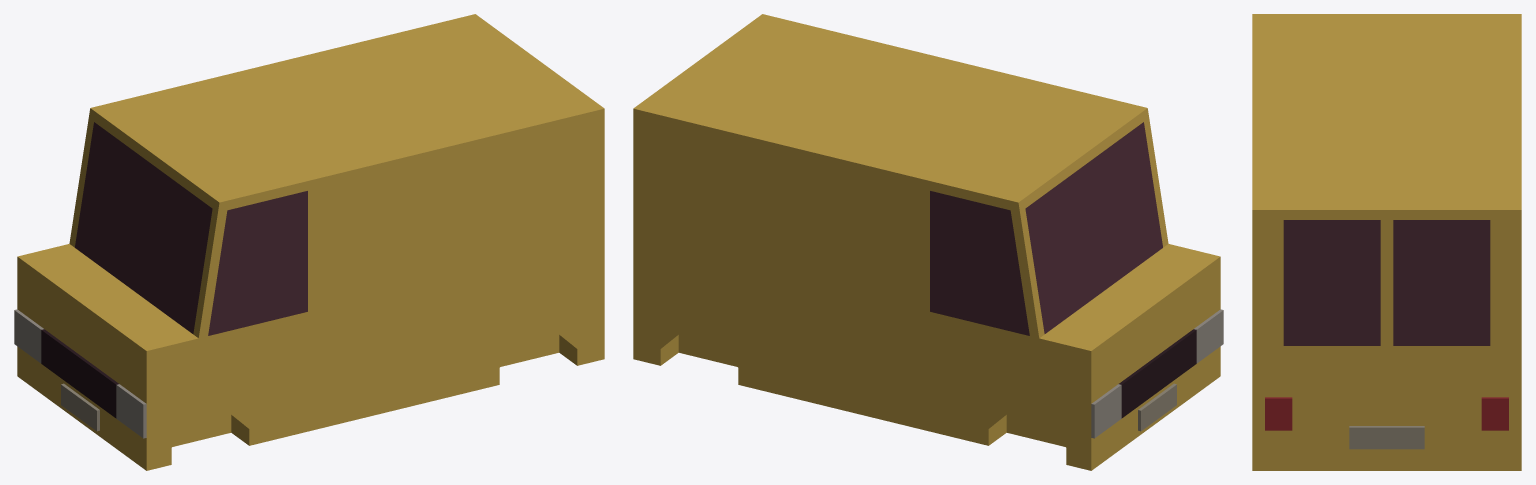
File: Van_Yellow.fbx
3 views of the same model, side by side, from view 1: azimuth 30°, elevation 25°; view 2: azimuth 150°, elevation 25°; view 3: azimuth 270°, elevation 25° (orthographic). The views are drawn at different scales.
Parts seen in each view (by area): view 1: Van_Yellow, Van_Lights; view 2: Van_Yellow, Van_Lights; view 3: Van_Yellow, Van_Lights.
Part boxes in pixels (x1,y1,x2,y2): Van_Yellow: (17, 14, 604, 470); Van_Lights: (14, 309, 146, 438); Van_Yellow: (633, 14, 1220, 470); Van_Lights: (1091, 309, 1223, 438); Van_Yellow: (1252, 14, 1521, 470); Van_Lights: (1265, 397, 1508, 430).
Size of the model in its own units: 4.46 by 2.3 by 2.15.
